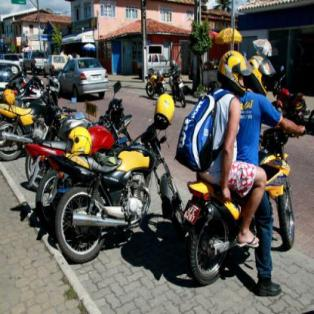Motocicleta: (188, 123, 300, 285)
